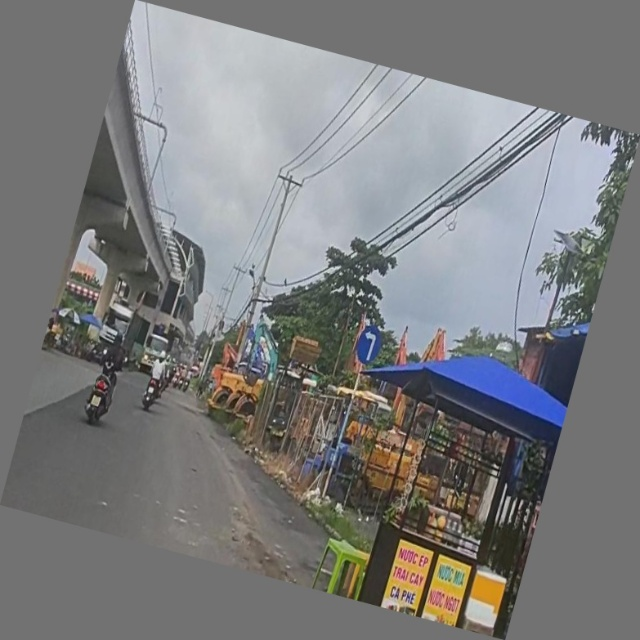R.301e: (354, 324, 385, 368)
